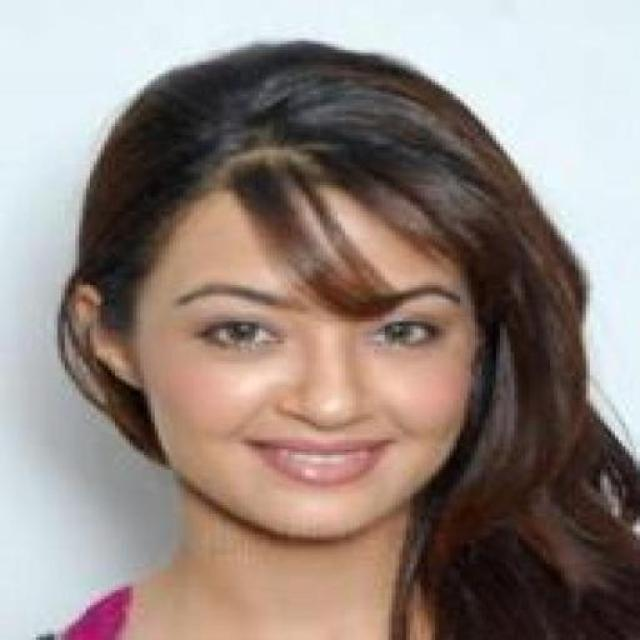bareface: (158, 190, 472, 500)
